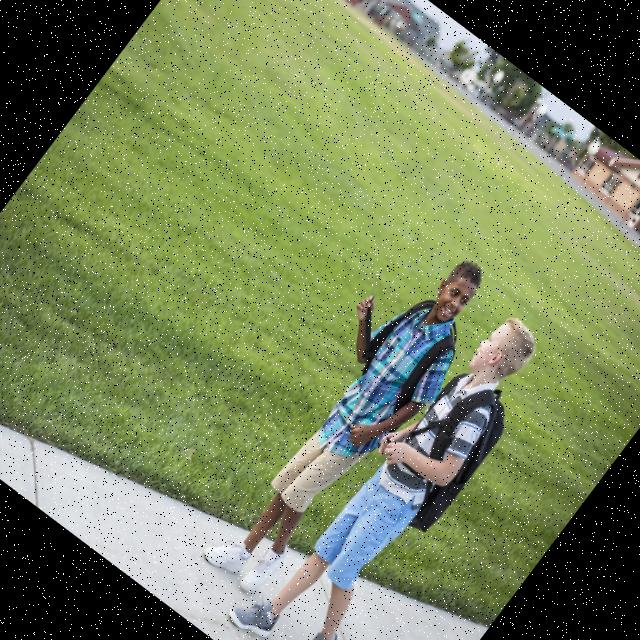Person: (179, 222, 515, 614), (221, 287, 563, 640)
